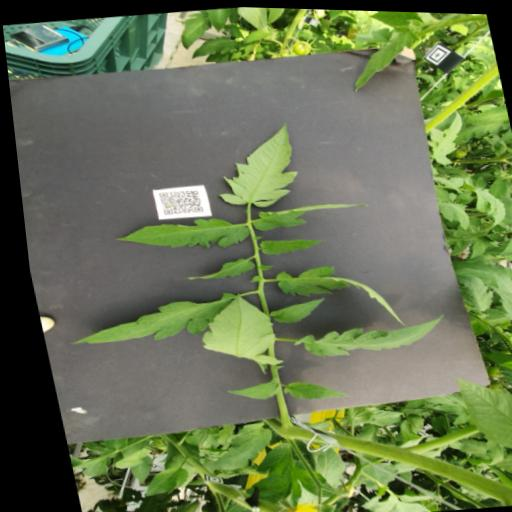Healthy: (268, 254, 415, 338), (54, 287, 238, 351), (202, 119, 310, 211), (281, 308, 445, 362), (447, 363, 512, 488), (185, 289, 277, 371), (107, 211, 248, 258), (341, 21, 429, 93), (186, 418, 269, 474), (244, 197, 369, 234), (477, 275, 512, 358), (172, 255, 252, 283), (272, 374, 343, 403), (260, 294, 323, 326), (449, 269, 490, 313), (186, 31, 246, 61), (128, 465, 182, 498), (253, 232, 324, 257), (174, 9, 216, 50), (301, 440, 339, 485), (216, 376, 274, 403), (433, 196, 469, 229), (367, 9, 423, 28), (236, 5, 271, 30), (206, 6, 236, 33), (488, 222, 512, 253), (492, 189, 512, 223), (461, 237, 483, 257)
